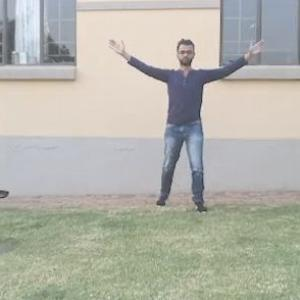takeoff: (108, 30, 272, 213)
